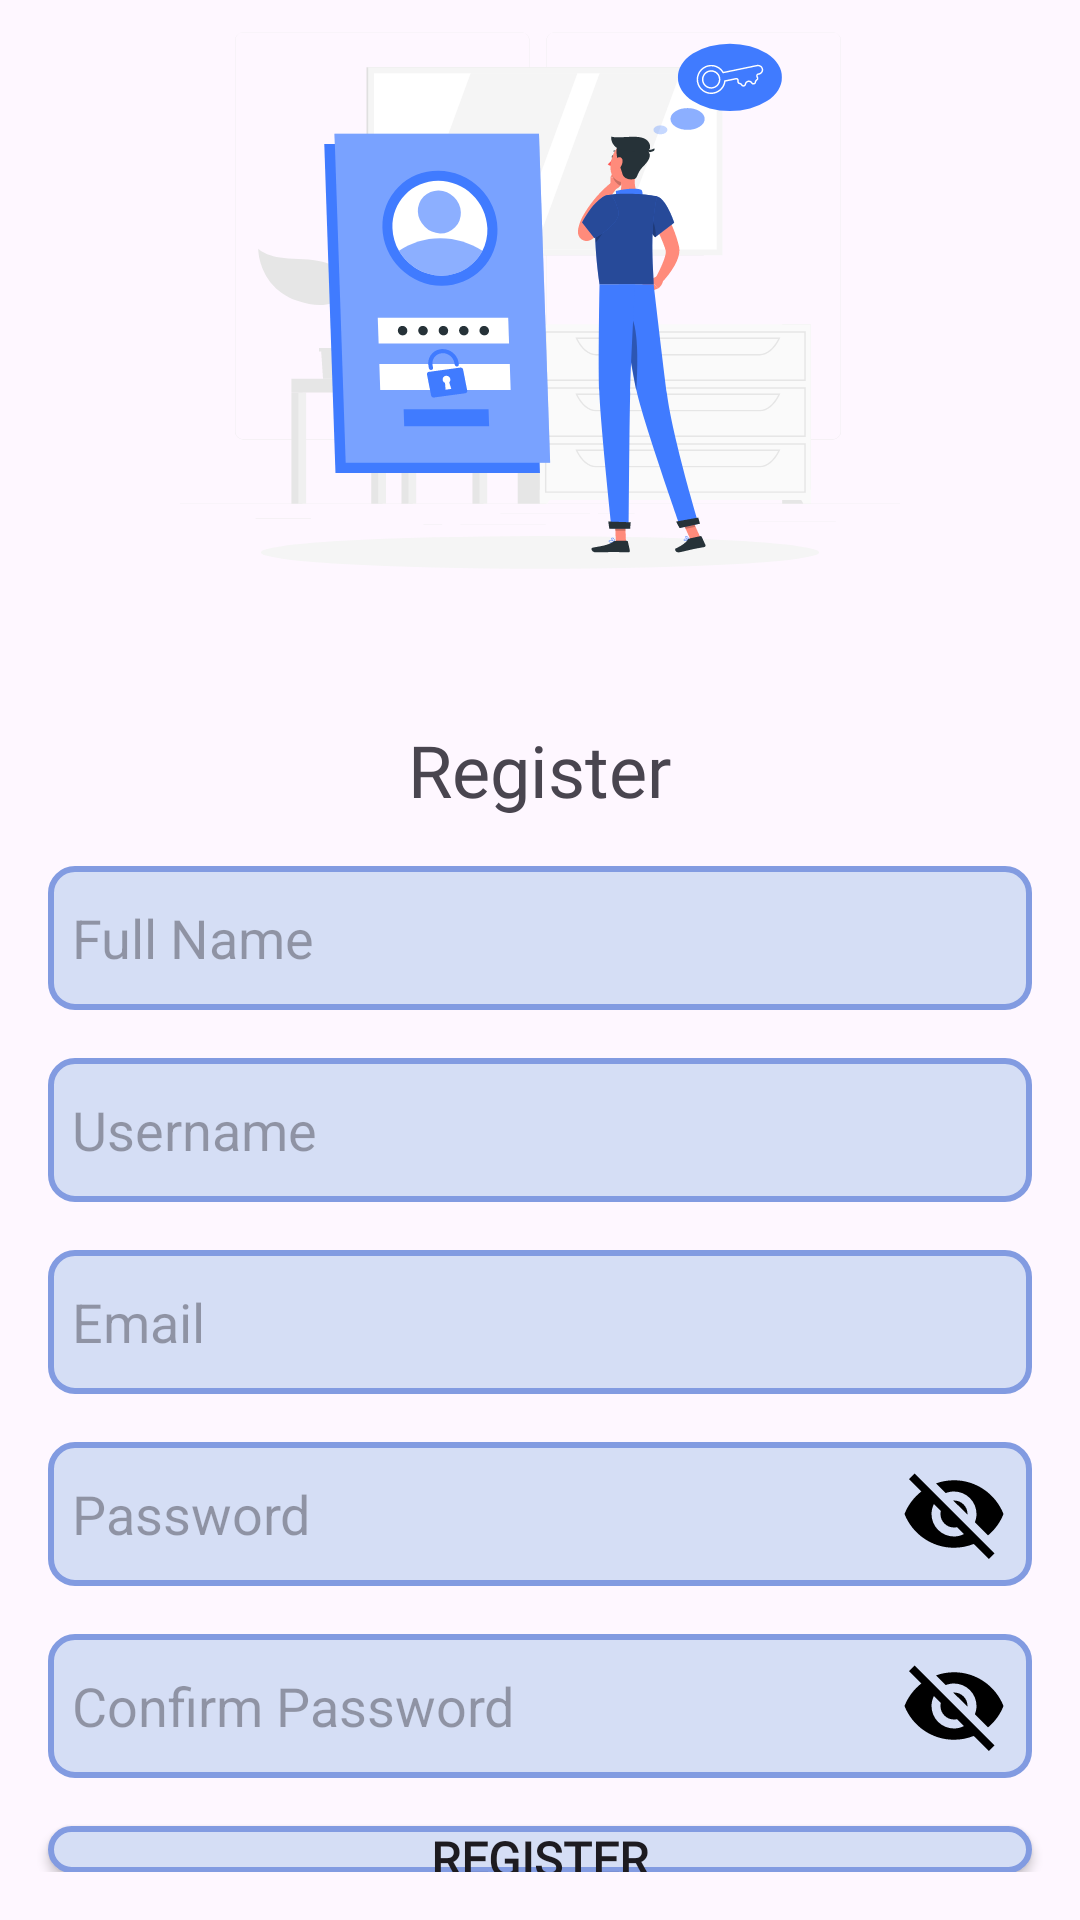

Point at icon controls on the screen. Image size 1080*1920, points as [x,y].
eye off: [954,1516], [954,1708]
